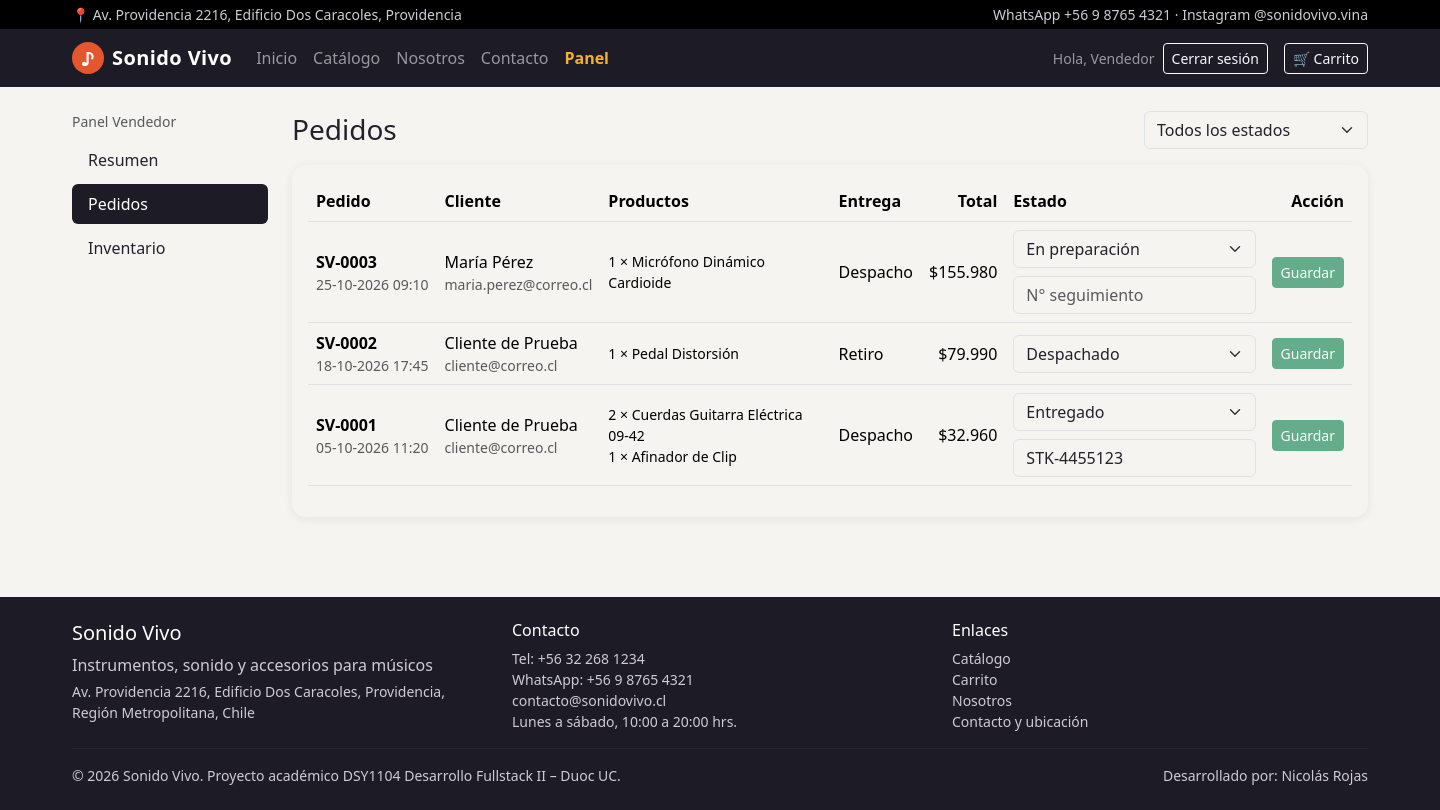
Panel de administración › Pedidos: filtra por estado y actualiza un pedido
Select "En preparación" in the dropdown named "Filtrar pedidos por estado" at (1256, 130), box [1144,111,1368,149]
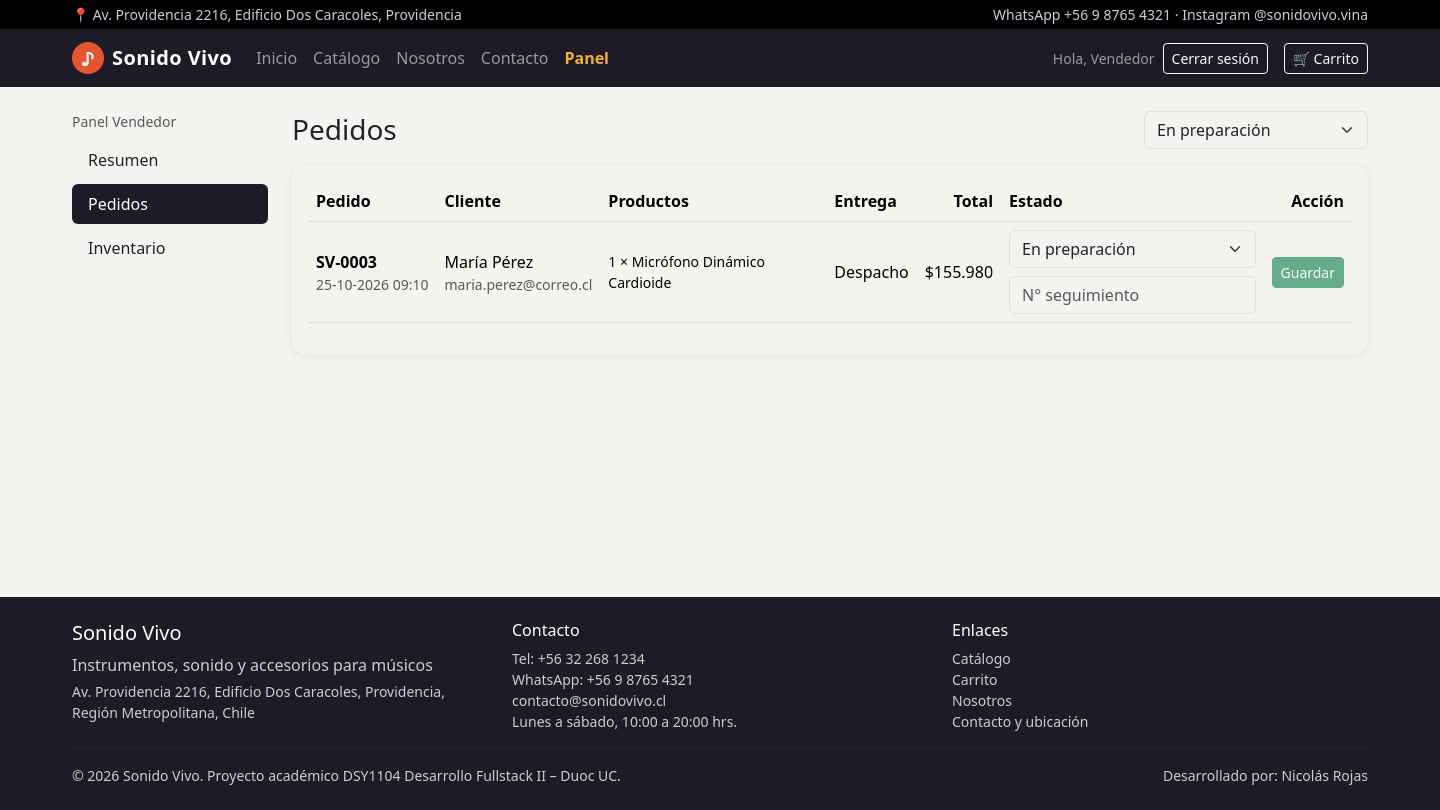
Check: the number of rows is 2, box [308,181,1352,222]; [308,222,1352,322]
Select "Despachado" in the dropdown named "Estado del pedido SV-0003" at (1132, 249), box [1009,230,1256,268]
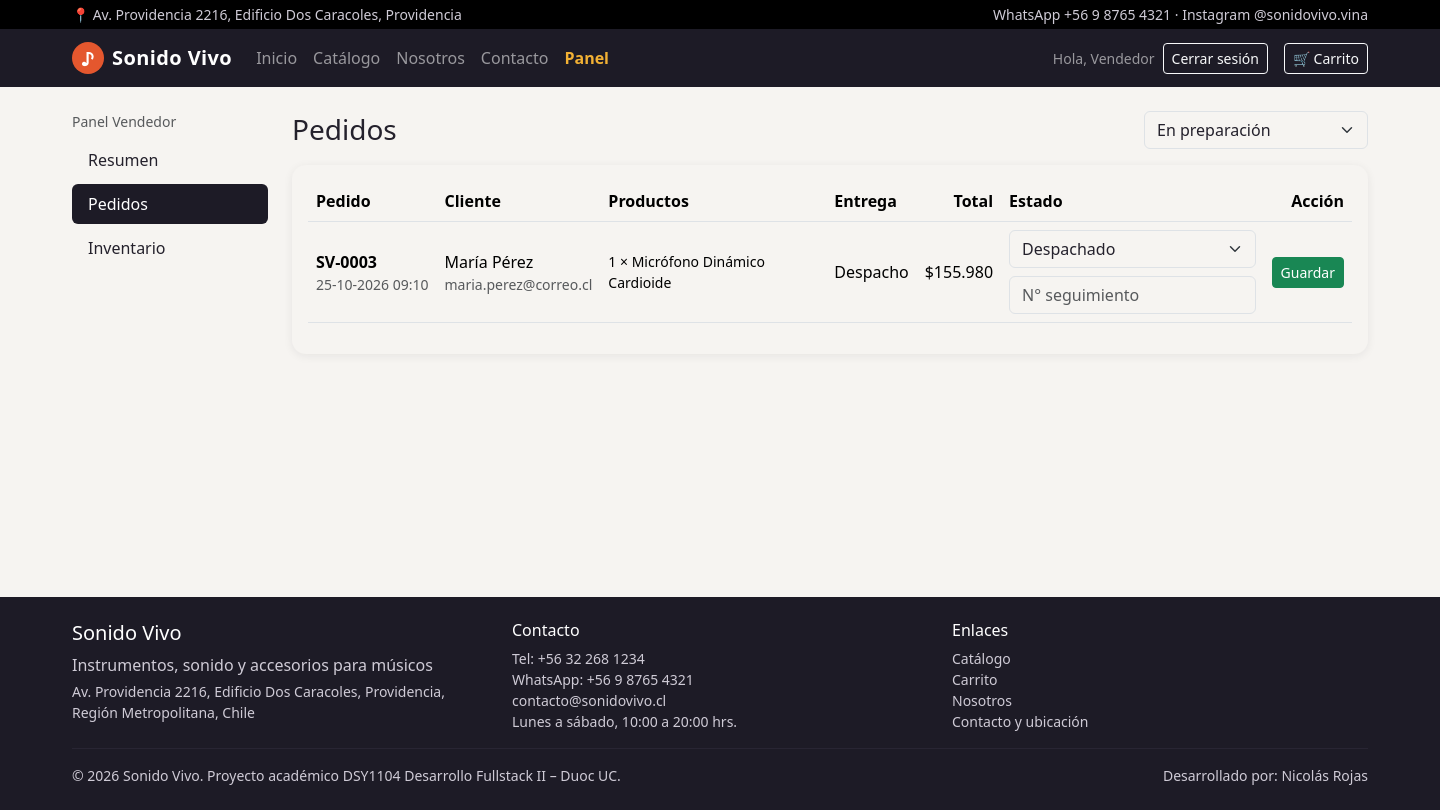
Type "CHX-998877" into the field named "Número de seguimiento del pedido SV-0003" at (1132, 295), box [1009,276,1256,314]
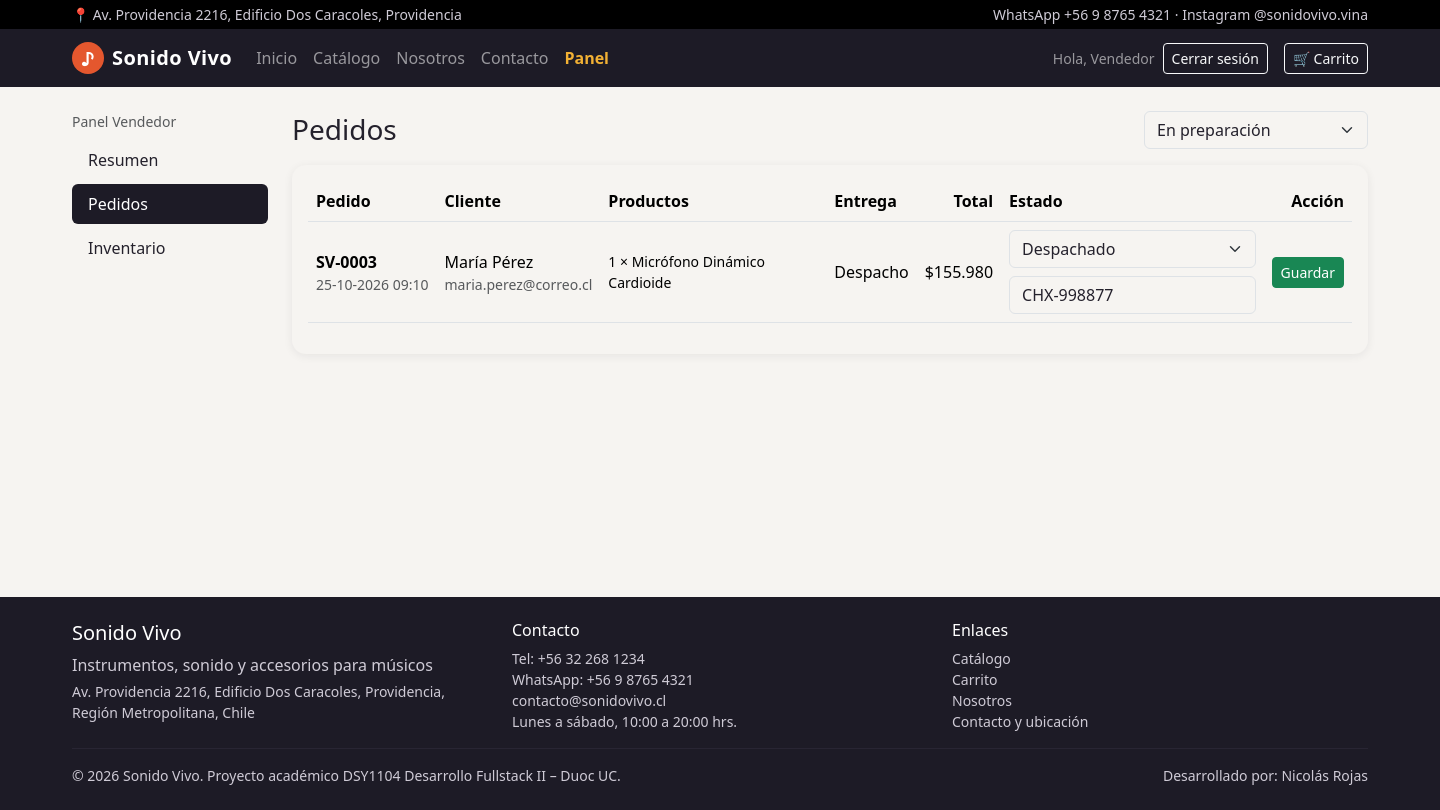
Click the button with aria-label "Guardar pedido SV-0003" at (1308, 272), box [1272,256,1344,288]
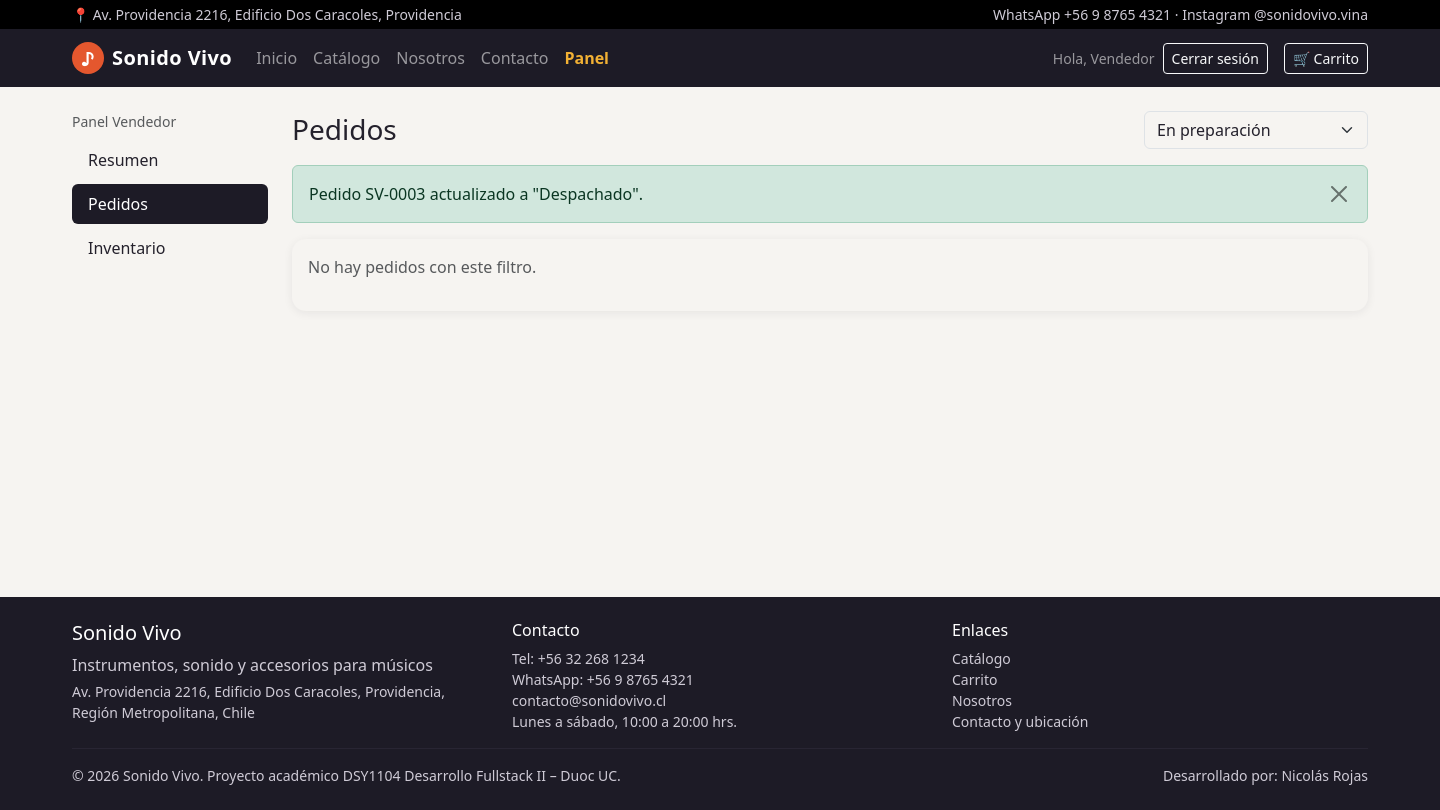
Check: the text "Pedido SV-0003 actualizado a \"Despachado\"." is shown, box [309,182,643,206]
